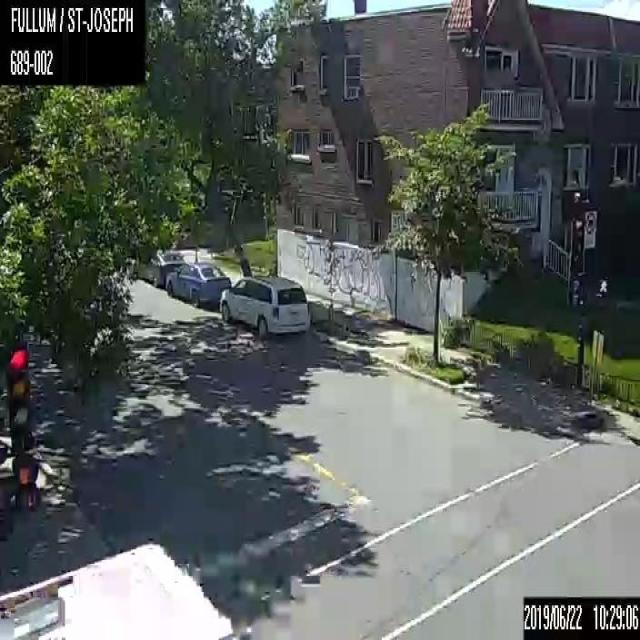construction: (580, 328, 605, 416)
vehicle: (0, 541, 235, 638), (219, 275, 310, 340), (165, 260, 230, 306), (131, 249, 184, 286)
